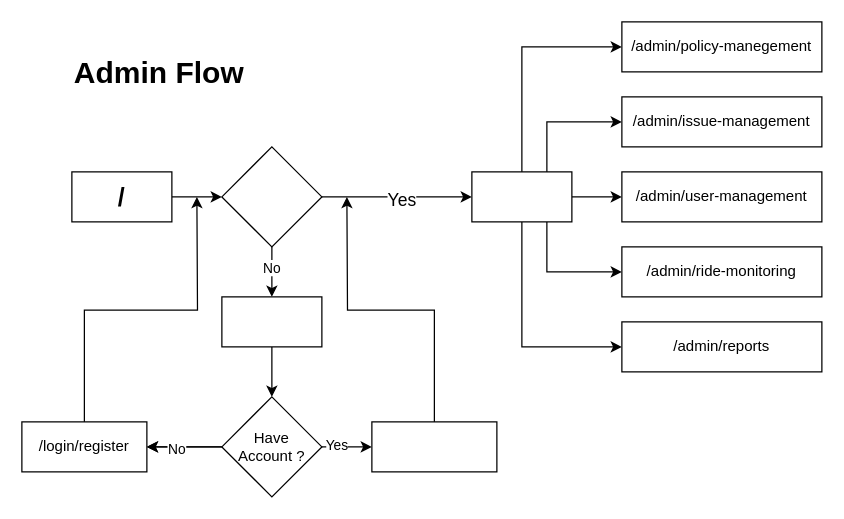
Image size: 844x519. Some labels were removed from this diagram. The centre of each missing label's shape, as x and y in pixels:
/admin (Home): the point at 521,196
/login: the point at 271,321
/login/admin: the point at 434,446
Login ?: the point at 271,196
